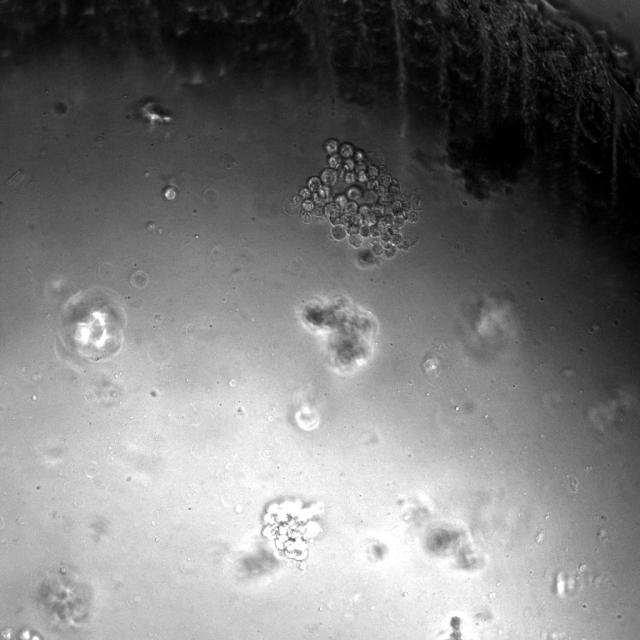organoid: (283, 139, 425, 269), (299, 294, 378, 375), (59, 287, 126, 361), (261, 498, 324, 570), (36, 566, 95, 630), (422, 524, 483, 570), (137, 101, 173, 125), (0, 627, 42, 639), (129, 270, 149, 289), (449, 616, 464, 639), (162, 184, 178, 201)
